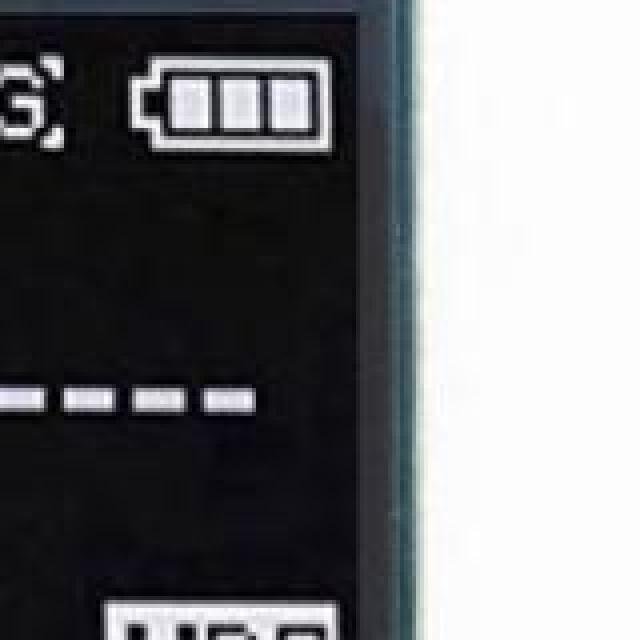display: (0, 0, 432, 640)
